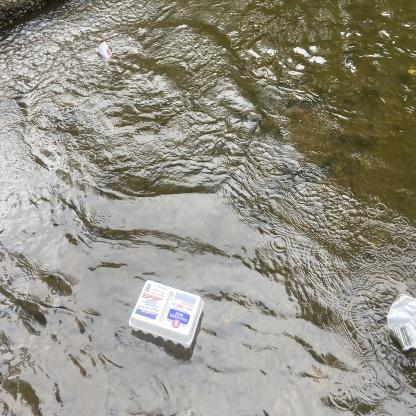trash: (125, 276, 206, 350), (382, 289, 416, 355), (95, 38, 114, 63)
